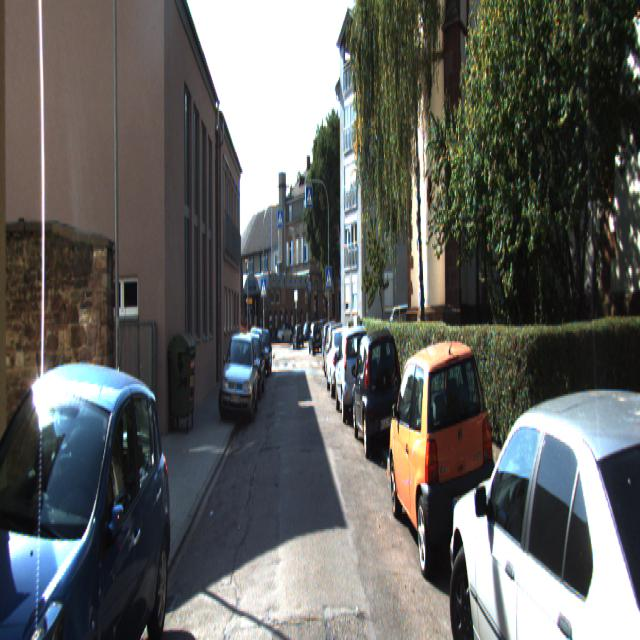Car: (445, 358, 640, 638), (0, 346, 173, 638), (387, 332, 501, 588), (351, 326, 404, 457), (334, 316, 373, 414), (220, 329, 258, 429), (326, 326, 356, 401), (237, 328, 266, 402), (387, 301, 422, 358), (253, 327, 273, 378)
